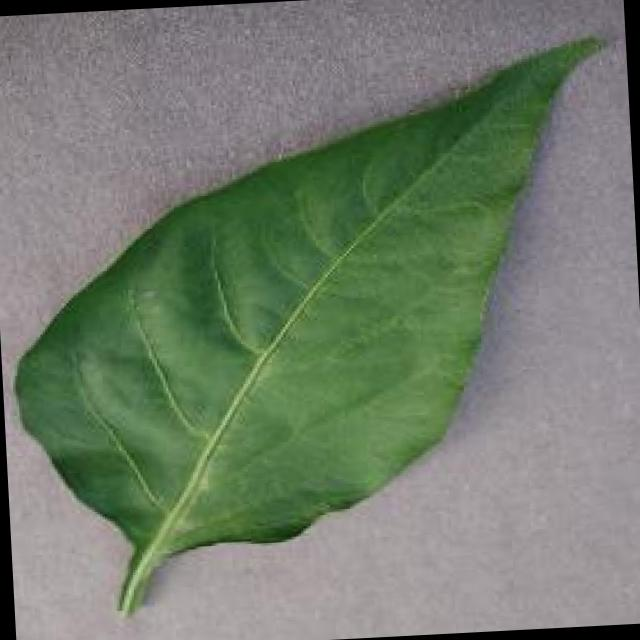Chilli_Healthy: (0, 30, 635, 621)
